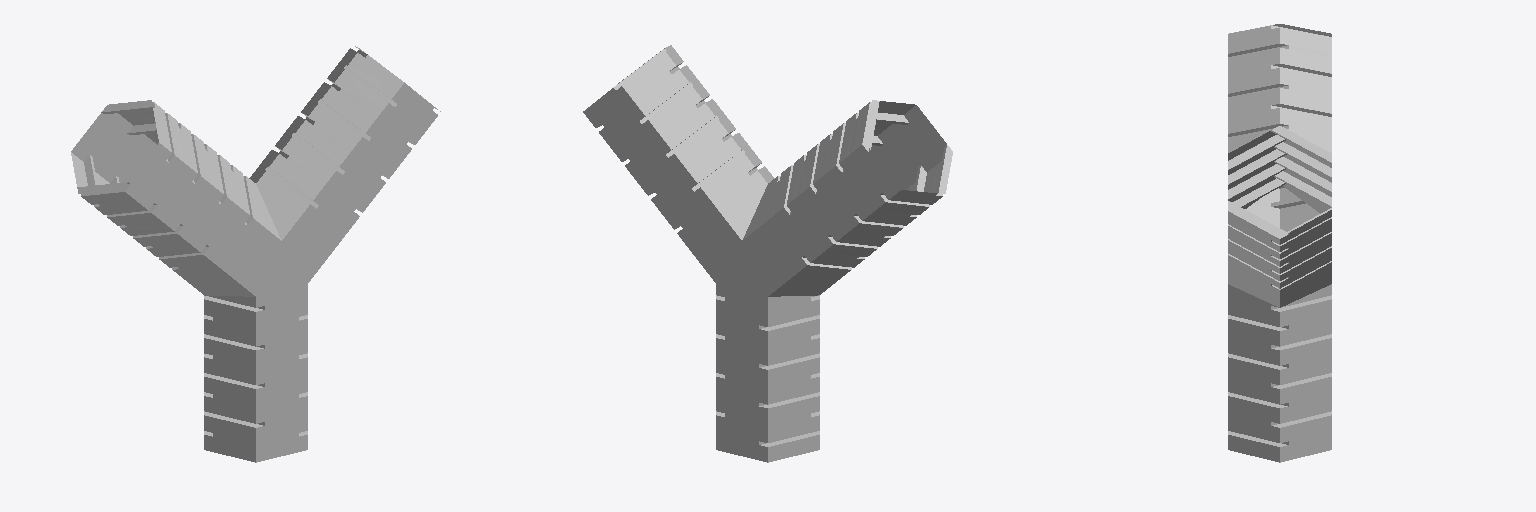
The model's file is corridor.obj.
3 renders of one model, left to right at view 1: azimuth 30°, elevation 25°; view 2: azimuth 150°, elevation 25°; view 3: azimuth 270°, elevation 25°, orthographic.
Parts seen in each view (by area): view 1: Corridor__Ceiling, Corridor__Walls, Corridor__Beam_Side, Corridor__Floor, Corridor__Beam_Face; view 2: Corridor__Floor, Corridor__Walls, Corridor__Beam_Side, Corridor__Ceiling, Corridor__Beam_Face; view 3: Corridor__Walls, Corridor__Beam_Side, Corridor__Beam_Face.
Part boxes in pixels (x1,y1,x2,y2): Corridor__Ceiling: (125, 83, 437, 462); Corridor__Walls: (71, 48, 404, 462); Corridor__Beam_Side: (77, 46, 440, 436); Corridor__Floor: (71, 113, 285, 182); Corridor__Beam_Face: (90, 50, 396, 425); Corridor__Floor: (583, 86, 900, 462); Corridor__Walls: (622, 45, 942, 462); Corridor__Beam_Side: (597, 48, 952, 446); Corridor__Ceiling: (715, 105, 946, 189); Corridor__Beam_Face: (613, 49, 946, 444); Corridor__Walls: (1228, 25, 1331, 462); Corridor__Beam_Side: (1228, 24, 1331, 446); Corridor__Beam_Face: (1228, 25, 1331, 444).
Size of the model in its own units: 48.08 by 46.94 by 12.12.